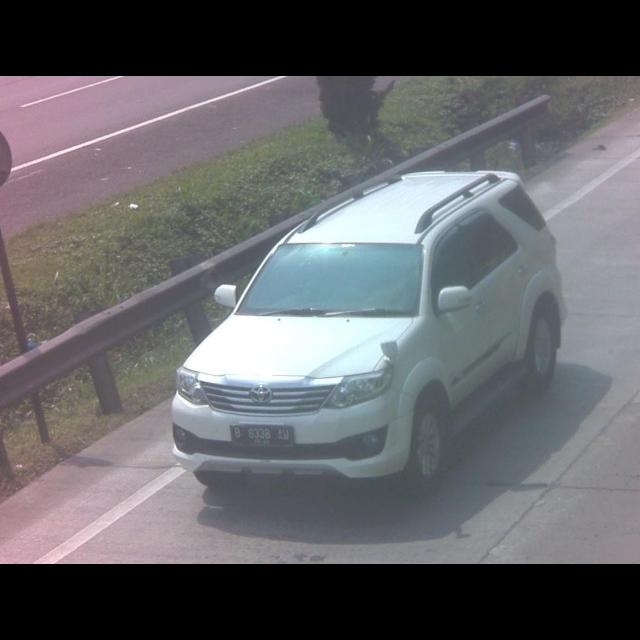plate: (226, 423, 294, 445)
